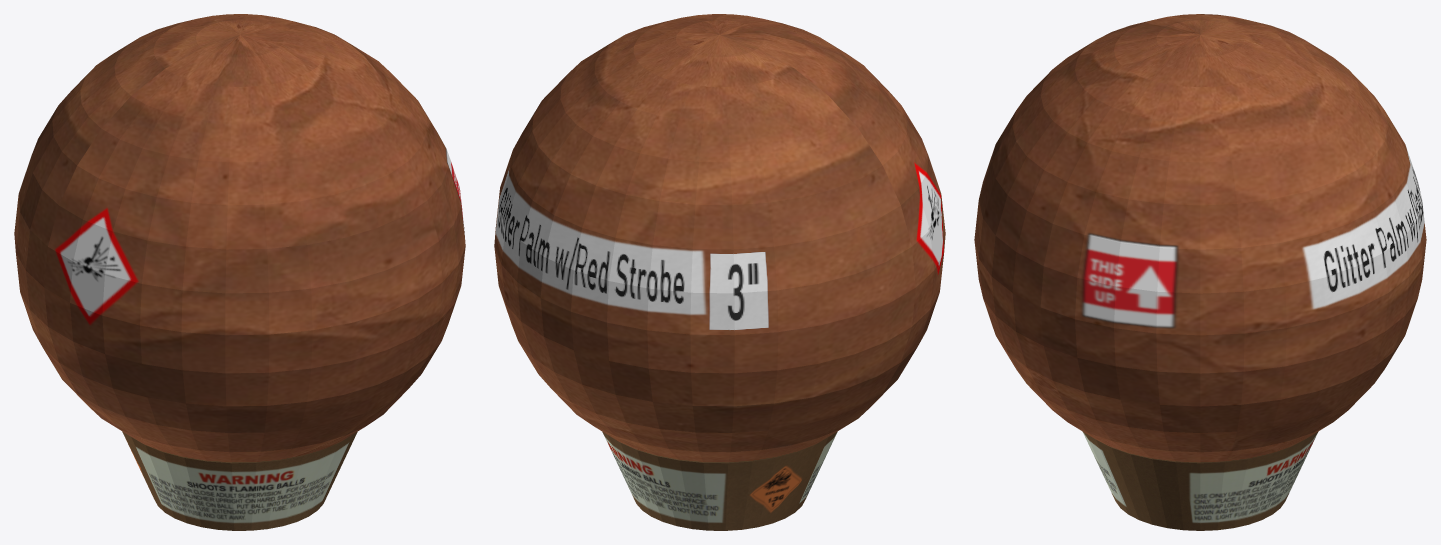
Rendered from Shell Ball 3 Inch GlitterPalmRedStrobe.fbx.
The picture shows the model from 3 angles, left to right: view 1: azimuth 30°, elevation 25°; view 2: azimuth 150°, elevation 25°; view 3: azimuth 270°, elevation 25°; orthographic projection.
Visible parts, largest first — view 1: Sphere; view 2: Sphere; view 3: Sphere.
Part boxes in pixels (x1=…): Sphere: x1=14, y1=14, x2=465, y2=530; Sphere: x1=494, y1=14, x2=945, y2=530; Sphere: x1=974, y1=14, x2=1426, y2=530.
Size of the model in its own units: 14 by 16.23 by 14.
